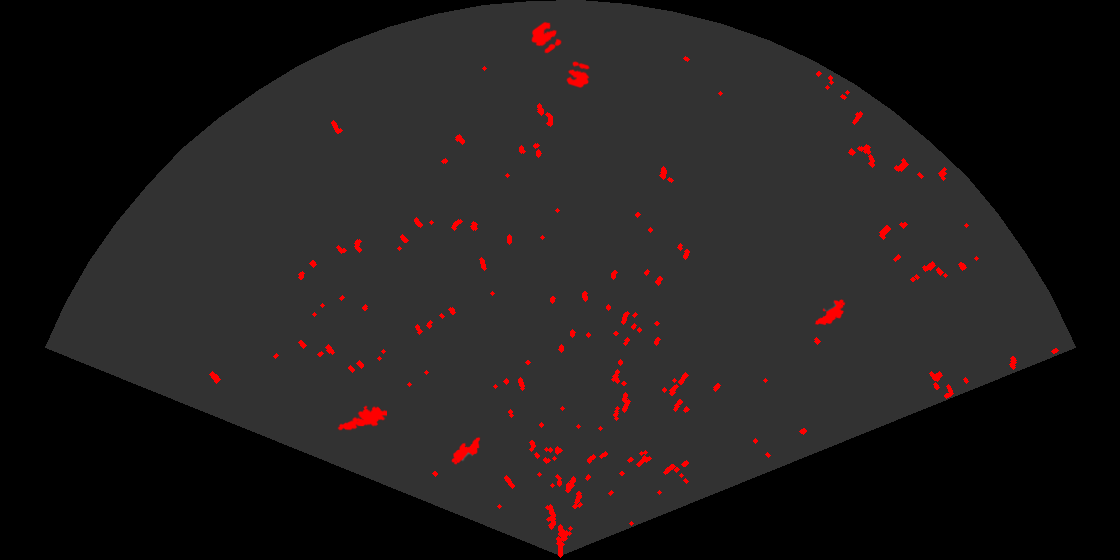AUV: (450, 435, 482, 466), (813, 298, 847, 327)
ball: (530, 20, 563, 55), (565, 60, 591, 90)
frogman: (337, 404, 387, 432)
